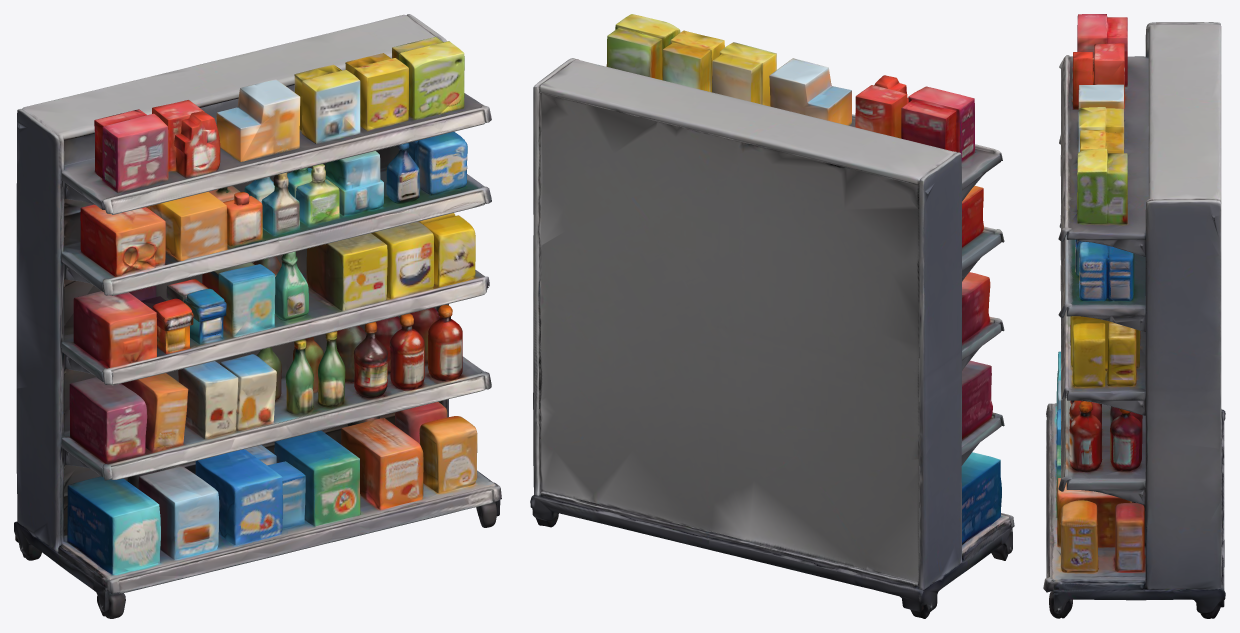
Rendered from shelf.opt.glb.
3 renders of one model, left to right at view 1: azimuth 30°, elevation 25°; view 2: azimuth 150°, elevation 25°; view 3: azimuth 270°, elevation 25°, orthographic. The views are drawn at different scales.
Visible parts, largest first — view 1: tripo_node_5a7db49c-2b07-4b24-8d8a-9ae49753c87d; view 2: tripo_node_5a7db49c-2b07-4b24-8d8a-9ae49753c87d; view 3: tripo_node_5a7db49c-2b07-4b24-8d8a-9ae49753c87d.
Boxes of the visible parts, x1,y1,x2,y2 form: tripo_node_5a7db49c-2b07-4b24-8d8a-9ae49753c87d: [14, 14, 501, 618]; tripo_node_5a7db49c-2b07-4b24-8d8a-9ae49753c87d: [530, 14, 1014, 618]; tripo_node_5a7db49c-2b07-4b24-8d8a-9ae49753c87d: [1043, 14, 1225, 618].
Size of the model in its own units: 0.8647 by 0.9786 by 0.3673.
Materials: 1 (1 with a texture image).
